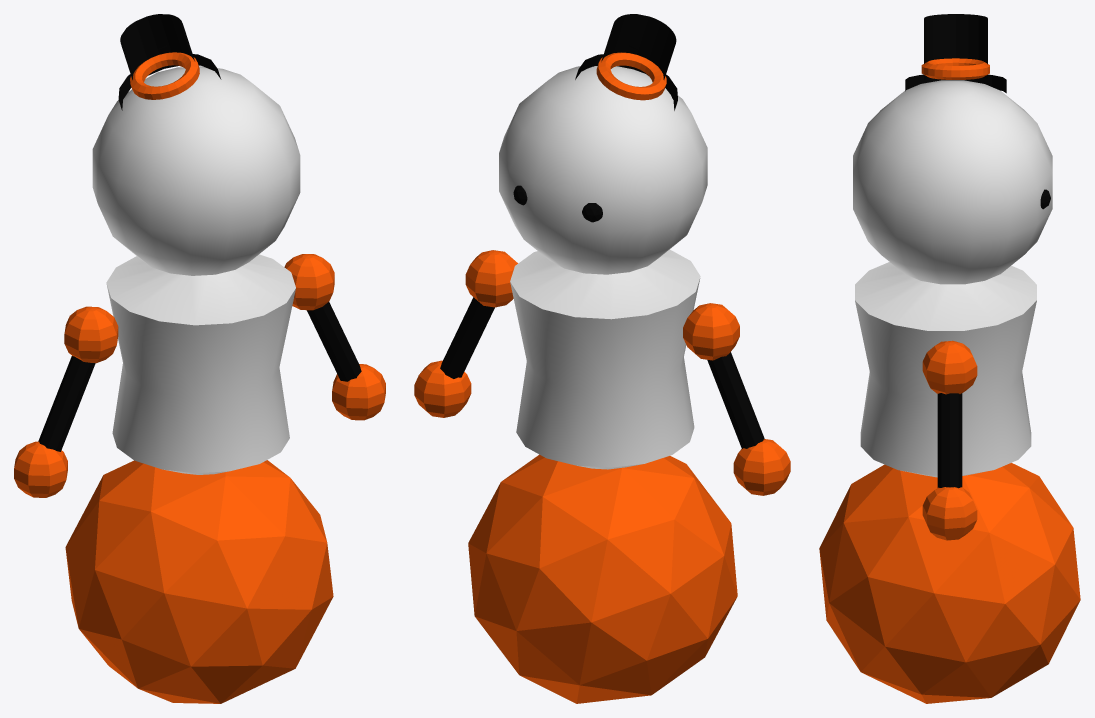
The model's file is sandman.glb.
The picture shows the model from 3 angles, left to right: view 1: azimuth 30°, elevation 25°; view 2: azimuth 150°, elevation 25°; view 3: azimuth 270°, elevation 25°; orthographic projection. The views are drawn at different scales.
Parts seen in each view (by area): view 1: BALL, BODY, HEAD, ARM L, ARM R, TOP HAT; view 2: BALL, BODY, HEAD, ARM L, ARM R, TOP HAT; view 3: BALL, HEAD, BODY, ARM R, TOP HAT.
Boxes of the visible parts, bbox=[...] form: BALL: bbox=[65, 460, 333, 703]; BODY: bbox=[106, 254, 295, 474]; HEAD: bbox=[92, 66, 300, 275]; ARM L: bbox=[14, 306, 118, 497]; ARM R: bbox=[284, 254, 385, 420]; TOP HAT: bbox=[118, 14, 221, 110]; BALL: bbox=[468, 454, 737, 703]; BODY: bbox=[510, 249, 700, 469]; HEAD: bbox=[499, 66, 707, 274]; ARM L: bbox=[683, 303, 790, 495]; ARM R: bbox=[414, 250, 517, 417]; TOP HAT: bbox=[575, 14, 677, 110]; BALL: bbox=[819, 463, 1080, 703]; HEAD: bbox=[853, 80, 1052, 284]; BODY: bbox=[855, 262, 1036, 477]; ARM R: bbox=[922, 340, 977, 540]; TOP HAT: bbox=[905, 14, 1006, 93].
Bounding box in the file's own units: 2.55 × 4.49 × 1.61.
